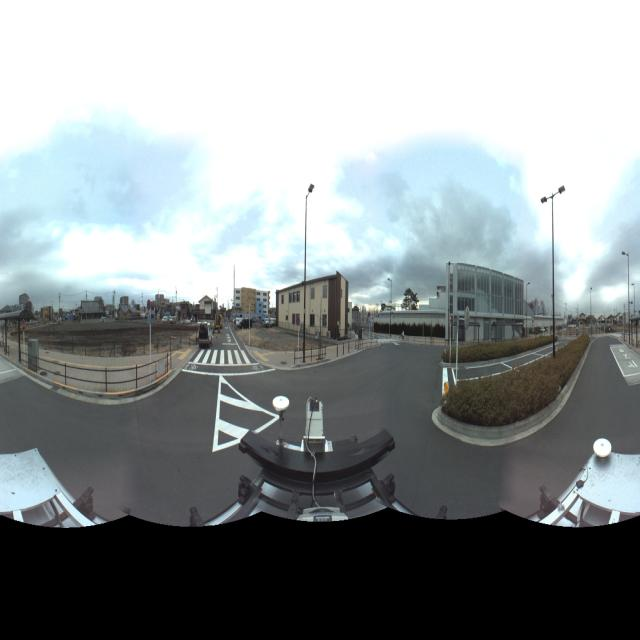b_1: (443, 254, 528, 354), (276, 253, 351, 347), (228, 270, 276, 332), (117, 287, 145, 332), (80, 293, 108, 334), (18, 286, 36, 328), (38, 303, 56, 326)
